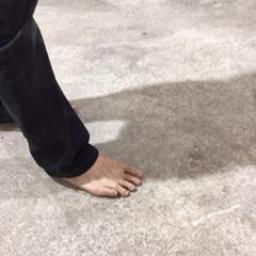Lateral View -Right Foot-: (25, 147, 148, 206)
